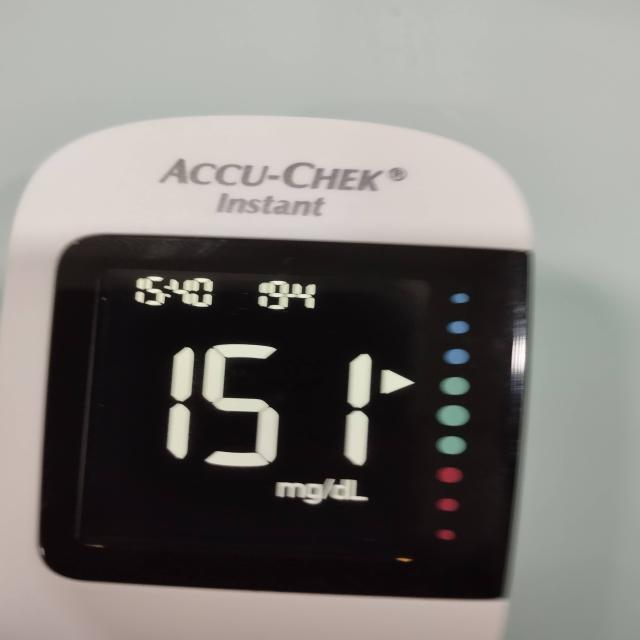gluco: (0, 117, 537, 640)
